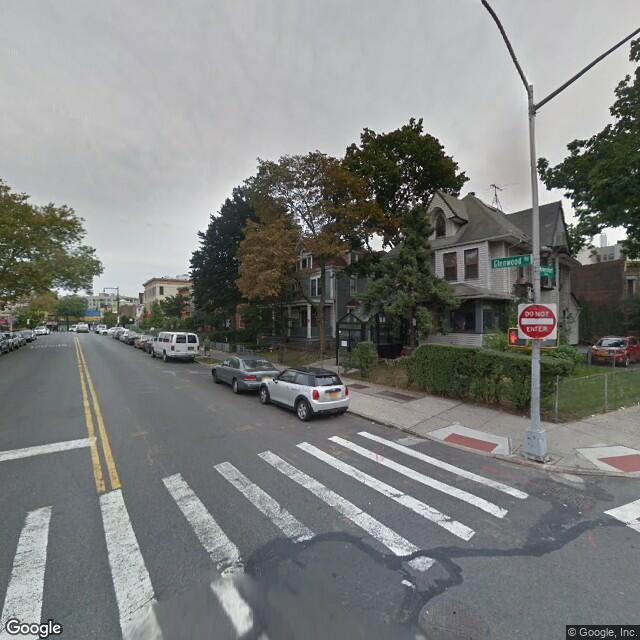litter: (402, 578, 415, 589), (617, 404, 626, 412), (589, 413, 598, 417)
